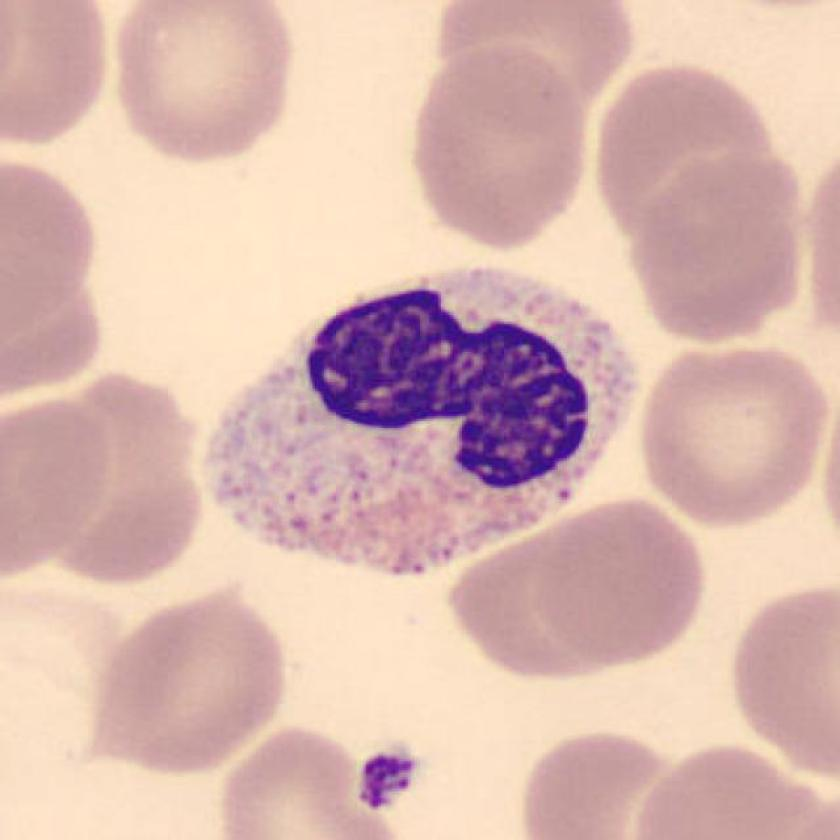neutrophil: (205, 267, 637, 566)
